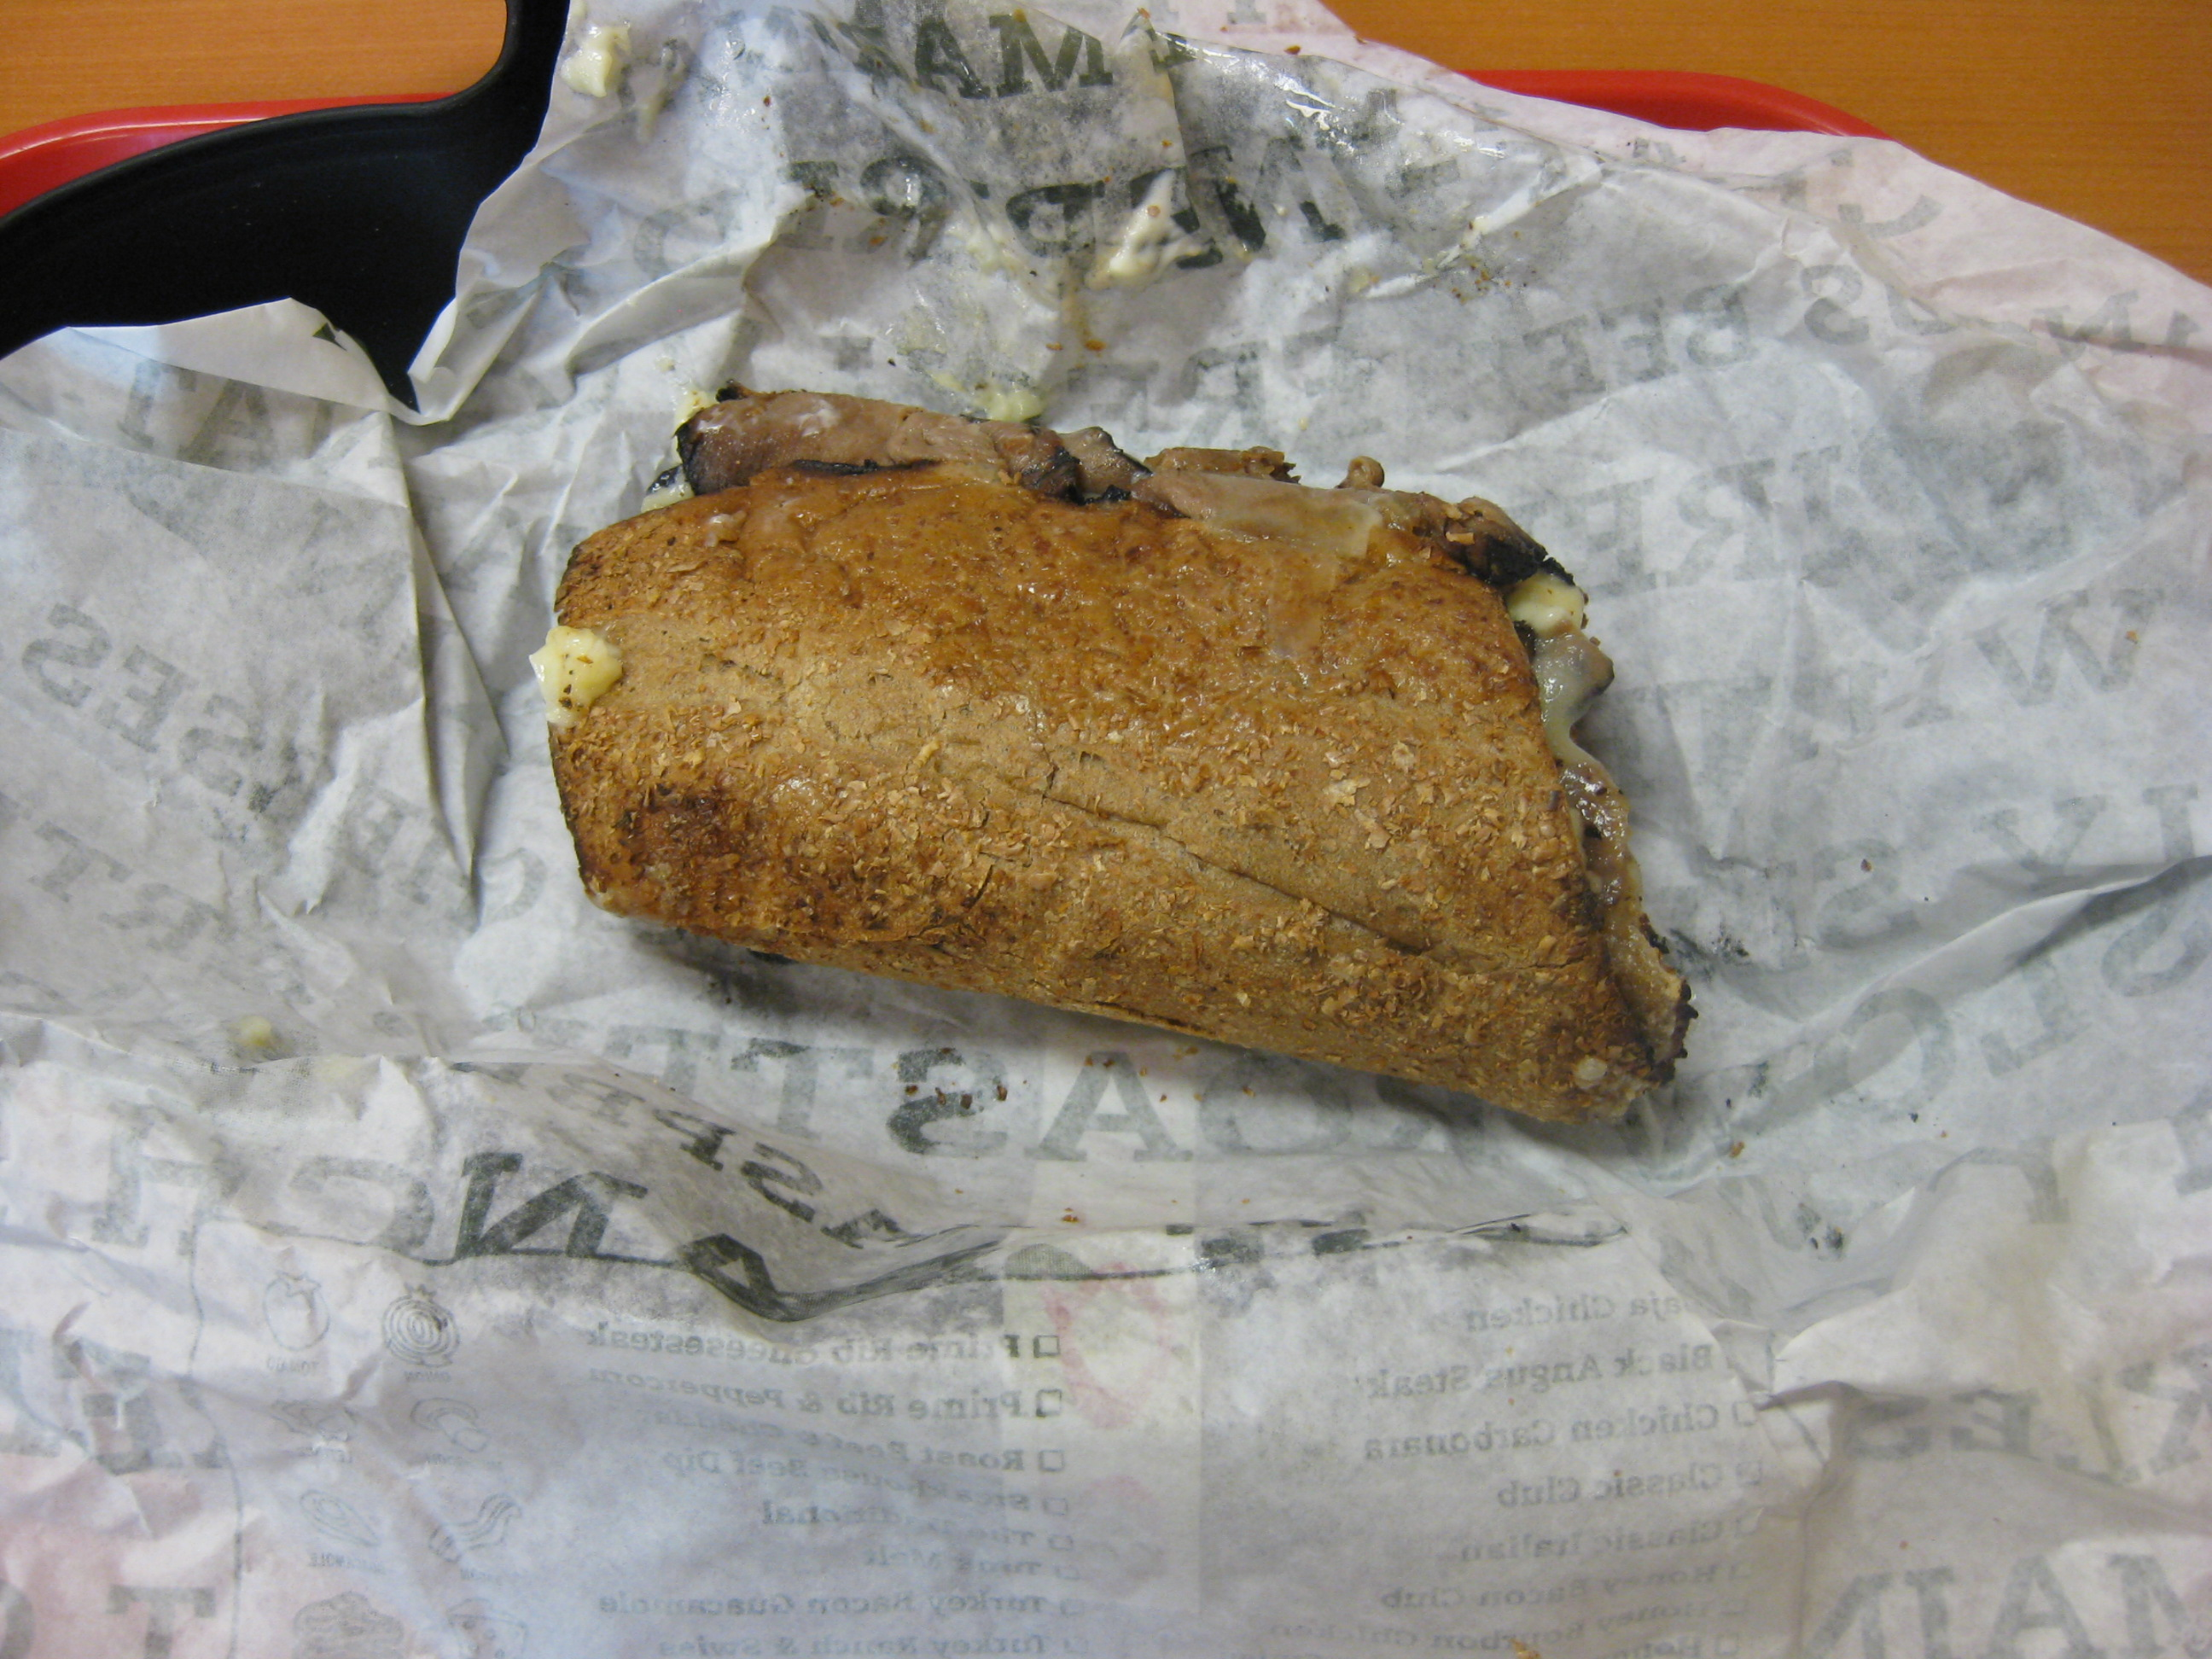sub: (529, 382, 1733, 1124)
